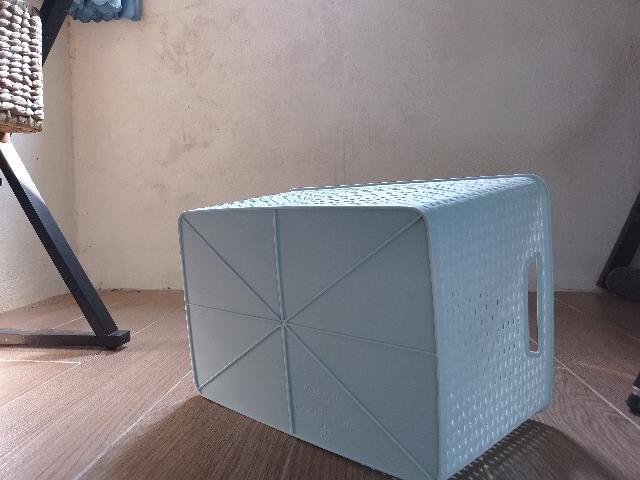cart: (175, 176, 554, 480)
